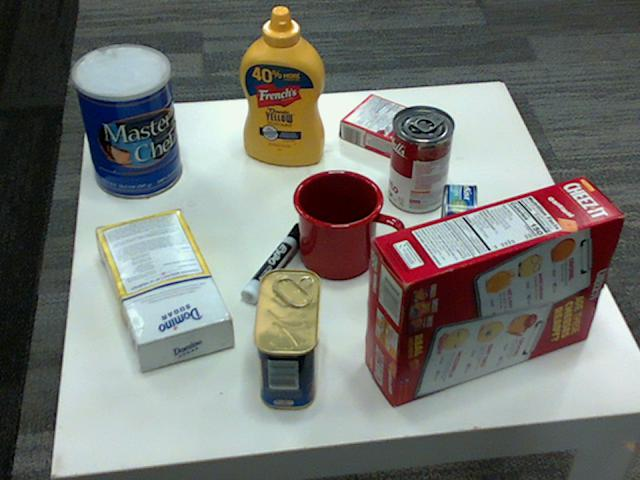cracker_box: (364, 175, 622, 403)
gelatin_box: (341, 93, 430, 158)
large_marker: (238, 224, 306, 308)
master_chef_can: (70, 45, 180, 199)
mug: (292, 167, 402, 276)
mustard_bottle: (239, 7, 324, 165)
potted_meat_can: (254, 268, 322, 409)
sugar_box: (94, 206, 232, 366)
tomato_soup_can: (387, 106, 453, 213)
tuna_fish_can: (436, 183, 476, 265)
